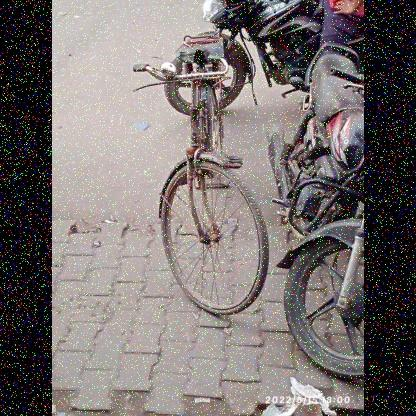Bicycle: (121, 22, 291, 345)
